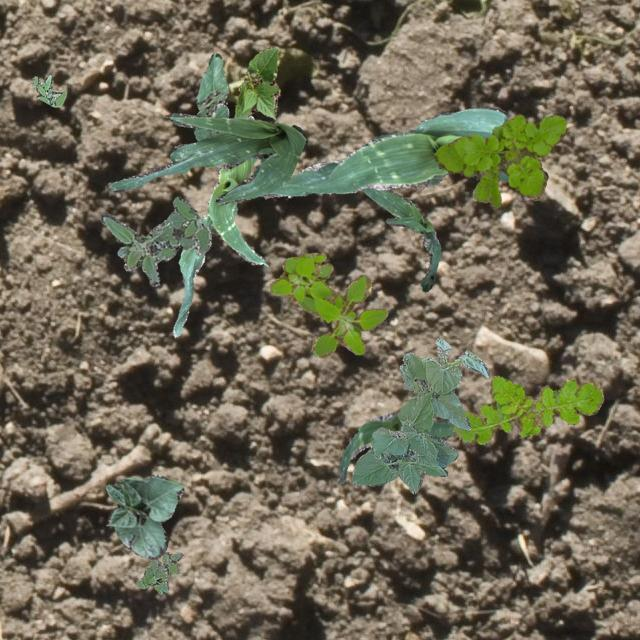crop: (260, 106, 508, 198), (349, 337, 488, 492), (172, 114, 264, 336), (106, 112, 304, 204), (336, 410, 454, 482), (360, 187, 440, 290), (104, 473, 182, 558), (233, 46, 280, 118), (192, 51, 228, 140)
weed: (268, 252, 386, 356), (434, 114, 566, 206), (452, 374, 602, 442), (100, 196, 210, 286), (136, 550, 182, 594), (31, 75, 66, 106)
